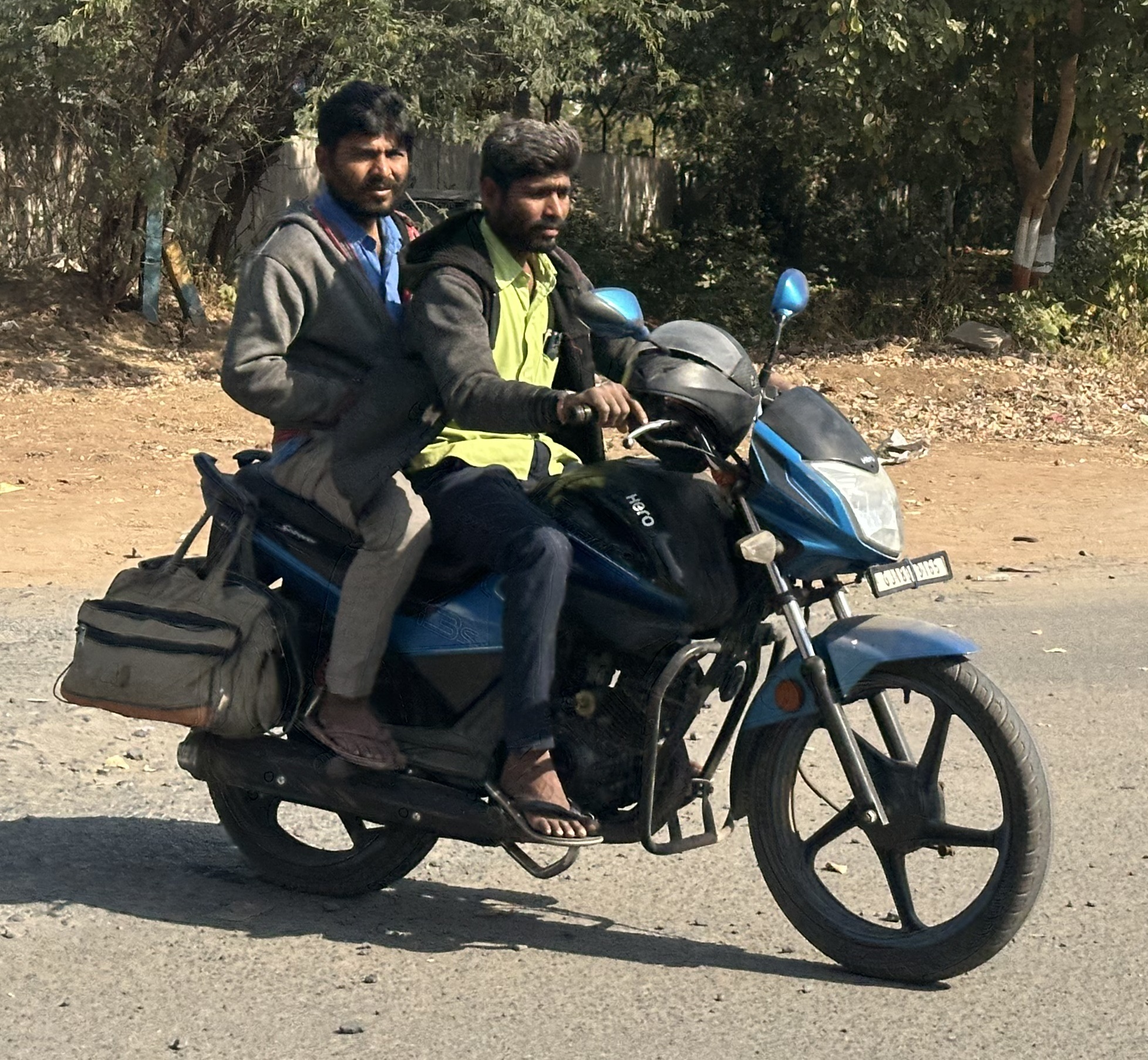BikeWithRider: (60, 79, 1056, 988)
NoHelmet: (477, 113, 580, 258), (309, 83, 415, 221)
